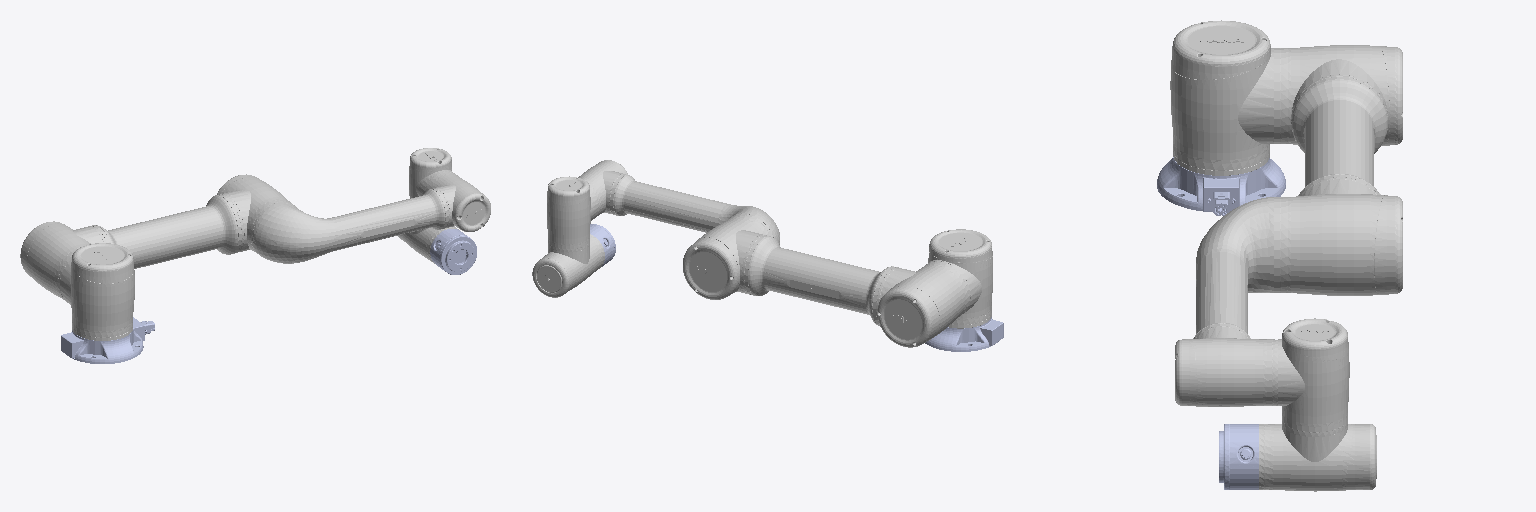
URDF robot description (jaka_s5):
<?xml version="1.0" encoding="utf-8"?>
<!-- This URDF was automatically created by SolidWorks to URDF Exporter! Originally created by [author] ([email redacted]) 
     Commit Version: 1.6.0-4-g7f85cfe  Build Version: 1.6.7995.38578
     For more information, please see http://wiki.ros.org/sw_urdf_exporter -->
<robot
  name="jaka_s5">

    <!-- LINK -->
  <link name="world" />

  <link
    name="Link_00">
    <inertial>
      <origin
        xyz="0.0028167 -0.00019454 0.019544"
        rpy="0 0 0" />
      <mass
        value="0.52663" />
      <inertia
        ixx="0.0048763"
        ixy="-1.8056E-07"
        ixz="2.5196E-05"
        iyy="0.0068003"
        iyz="-1.7678E-09"
        izz="0.010618" />
    </inertial>
    <visual>
      <origin
        xyz="0 0 0"
        rpy="0 0 0" />
      <geometry>
        <mesh
          filename="package://jaka_description/meshes/jaka_s5_meshes/Link_00.STL" />
      </geometry>
      <material
        name="">
        <color
          rgba="0.79216 0.81961 0.93333 1" />
      </material>
    </visual>
    <collision>
      <origin
        xyz="0 0 0"
        rpy="0 0 0" />
      <geometry>
        <mesh
          filename="package://jaka_description/meshes/jaka_s5_meshes/Link_00.STL" />
      </geometry>
    </collision>
  </link>
  
  <link
    name="Link_01">
    <inertial>
      <origin
        xyz="-2.5186E-07 0.0033226 -0.001509"
        rpy="0 0 0" />
      <mass
        value="15.135" />
      <inertia
        ixx="0.044302"
        ixy="1.5349E-07"
        ixz="-6.1966E-07"
        iyy="0.043091"
        iyz="1.4326E-05"
        izz="0.030523" />
    </inertial>
    <visual>
      <origin
        xyz="0 0 0"
        rpy="0 0 0" />
      <geometry>
        <mesh
          filename="package://jaka_description/meshes/jaka_s5_meshes/Link_01.STL" />
      </geometry>
      <material
        name="">
        <color
          rgba="0.84706 0.84706 0.84706 1" />
      </material>
    </visual>
    <collision>
      <origin
        xyz="0 0 0"
        rpy="0 0 0" />
      <geometry>
        <mesh
          filename="package://jaka_description/meshes/jaka_s5_meshes/Link_01.STL" />
      </geometry>
    </collision>
  </link>
  
  <link
    name="Link_02">
    <inertial>
      <origin
        xyz="0.215 6.4325E-09 -0.14315"
        rpy="0 0 0" />
      <mass
        value="45.847" />
      <inertia
        ixx="0.10377"
        ixy="-1.3562E-06"
        ixz="2.544E-07"
        iyy="1.5964"
        iyz="2.1509E-08"
        izz="1.5689" />
    </inertial>
    <visual>
      <origin
        xyz="0 0 0"
        rpy="0 0 0" />
      <geometry>
        <mesh
          filename="package://jaka_description/meshes/jaka_s5_meshes/Link_02.STL" />
      </geometry>
      <material
        name="">
        <color
          rgba="0.84706 0.84706 0.84706 1" />
      </material>
    </visual>
    <collision>
      <origin
        xyz="0 0 0"
        rpy="0 0 0" />
      <geometry>
        <mesh
          filename="package://jaka_description/meshes/jaka_s5_meshes/Link_02.STL" />
      </geometry>
    </collision>
  </link>

  <link
    name="Link_03">
    <inertial>
      <origin
        xyz="0.19077 -1.059E-08 -0.010626"
        rpy="0 0 0" />
      <mass
        value="18.05" />
      <inertia
        ixx="0.022066"
        ixy="-3.4554E-06"
        ixz="-0.022609"
        iyy="0.41632"
        iyz="1.1508E-08"
        izz="0.41071" />
    </inertial>
    <visual>
      <origin
        xyz="0 0 0"
        rpy="0 0 0" />
      <geometry>
        <mesh
          filename="package://jaka_description/meshes/jaka_s5_meshes/Link_03.STL" />
      </geometry>
      <material
        name="">
        <color
          rgba="0.84706 0.84706 0.84706 1" />
      </material>
    </visual>
    <collision>
      <origin
        xyz="0 0 0"
        rpy="0 0 0" />
      <geometry>
        <mesh
          filename="package://jaka_description/meshes/jaka_s5_meshes/Link_03.STL" />
      </geometry>
    </collision>
  </link>
  
  <link
    name="Link_04">
    <inertial>
      <origin
        xyz="-2.1463E-06 -0.0059512 0.0026789"
        rpy="0 0 0" />
      <mass
        value="5.5377" />
      <inertia
        ixx="0.0092564"
        ixy="1.1341E-07"
        ixz="-1.2578E-08"
        iyy="0.0052251"
        iyz="-8.3499E-05"
        izz="0.0089683" />
    </inertial>
    <visual>
      <origin
        xyz="0 0 0"
        rpy="0 0 0" />
      <geometry>
        <mesh
          filename="package://jaka_description/meshes/jaka_s5_meshes/Link_04.STL" />
      </geometry>
      <material
        name="">
        <color
          rgba="0.84706 0.84706 0.84706 1" />
      </material>
    </visual>
    <collision>
      <origin
        xyz="0 0 0"
        rpy="0 0 0" />
      <geometry>
        <mesh
          filename="package://jaka_description/meshes/jaka_s5_meshes/Link_04.STL" />
      </geometry>
    </collision>
  </link>

  <link
    name="Link_05">
    <inertial>
      <origin
        xyz="-2.0304E-06 -0.0028889 -0.0023424"
        rpy="0 0 0" />
      <mass
        value="6.3339" />
      <inertia
        ixx="0.012993"
        ixy="-1.0764E-07"
        ixz="5.8559E-09"
        iyy="0.0058454"
        iyz="4.5426E-05"
        izz="0.0127" />
    </inertial>
    <visual>
      <origin
        xyz="0 0 0"
        rpy="0 0 0" />
      <geometry>
        <mesh
          filename="package://jaka_description/meshes/jaka_s5_meshes/Link_05.STL" />
      </geometry>
      <material
        name="">
        <color
          rgba="0.84706 0.84706 0.84706 1" />
      </material>
    </visual>
    <collision>
      <origin
        xyz="0 0 0"
        rpy="0 0 0" />
      <geometry>
        <mesh
          filename="package://jaka_description/meshes/jaka_s5_meshes/Link_05.STL" />
      </geometry>
    </collision>
  </link>

  <link
    name="Link_06">
    <inertial>
      <origin
        xyz="-0.00024331 0.00030548 -0.026411"
        rpy="0 0 0" />
      <mass
        value="0.23261" />
      <inertia
        ixx="0.00071853"
        ixy="-6.9778E-07"
        ixz="-6.378E-07"
        iyy="0.00072375"
        iyz="8.3072E-07"
        izz="0.0011337" />
    </inertial>
    <visual>
      <origin
        xyz="0 0 0"
        rpy="0 0 0" />
      <geometry>
        <mesh
          filename="package://jaka_description/meshes/jaka_s5_meshes/Link_06.STL" />
      </geometry>
      <material
        name="">
        <color
          rgba="0.79216 0.81961 0.93333 1" />
      </material>
    </visual>
    <collision>
      <origin
        xyz="0 0 0"
        rpy="0 0 0" />
      <geometry>
        <mesh
          filename="package://jaka_description/meshes/jaka_s5_meshes/Link_06.STL" />
      </geometry>
    </collision>
  </link>

  <!-- JOINT -->
  <joint name="fixed" type="fixed">
     <origin xyz="0 0 0.0001" rpy="0 0 0" />
     <parent link="world"/>
     <child link="Link_00"/>
  </joint>

<joint
    name="joint_1"
    type="revolute">
    <origin
      xyz="0 0 0.12015"
      rpy="0 0 0" />
    <parent
      link="Link_00" />
    <child
      link="Link_01" />
    <axis
      xyz="0 0 1" />
    <limit
      lower="-6.28"
      upper="6.28"
      effort="3000"
      velocity="3.14"  />
  </joint>

  <joint
    name="joint_2"
    type="revolute">
    <origin
      xyz="0 0 0"
      rpy="1.5708 0 0" />
    <parent
      link="Link_01" />
    <child
      link="Link_02" />
    <axis
      xyz="0 0 1" />
    <limit
      lower="-1.48"
      upper="4.62"
      effort="5000"
      velocity="3.14"  />
  </joint>

<joint
    name="joint_3"
    type="revolute">
    <origin
      xyz="0.43 0 0"
      rpy="0 0 0" />
    <parent
      link="Link_02" />
    <child
      link="Link_03" />
    <axis
      xyz="0 0 1" />
    <limit
      lower="-3.05"
      upper="3.05"
      effort="5000"
      velocity="3.14"  />
  </joint>

  <joint
    name="joint_4"
    type="revolute">
    <origin
      xyz="0.3685 0 -0.114"
      rpy="0 0 0" />
    <parent
      link="Link_03" />
    <child
      link="Link_04" />
    <axis
      xyz="0 0 1" />
    <limit
      lower="-1.48"
      upper="4.62"
      effort="2000"
      velocity="3.14"  />
  </joint>

    <joint
    name="joint_5"
    type="revolute">
    <origin
      xyz="0 -0.1135 0"
      rpy="1.5708 0 0" />
    <parent
      link="Link_04" />
    <child
      link="Link_05" />
    <axis
      xyz="0 0 1" />
    <limit
      lower="-6.28"
      upper="6.28"
      effort="3000"
      velocity="3.14" />
  </joint>

  <joint
    name="joint_6"
    type="revolute">
    <origin
      xyz="0.00026137 0.1175 0.00025782"
      rpy="-1.5708 0 0" />
    <parent
      link="Link_05" />
    <child
      link="Link_06" />
    <axis
      xyz="0 0 1" />
    <limit
      lower="-6.28"
      upper="6.28"
      effort="1000"
      velocity="3.14"  />
  </joint>

 <transmission name="trans_joint_1">
        <type>transmission_interface/SimpleTransmission</type>
        <joint name="joint_1">
            <hardwareInterface>hardware_interface/PositionJointInterface</hardwareInterface>
        </joint>
        <actuator name="joint_1_motor">
            <hardwareInterface>hardware_interface/PositionJointInterface</hardwareInterface>
            <mechanicalReduction>1</mechanicalReduction>
        </actuator>
    </transmission>
    <transmission name="trans_joint_2">
        <type>transmission_interface/SimpleTransmission</type>
        <joint name="joint_2">
            <hardwareInterface>hardware_interface/PositionJointInterface</hardwareInterface>
        </joint>
        <actuator name="joint_2_motor">
            <hardwareInterface>hardware_interface/PositionJointInterface</hardwareInterface>
            <mechanicalReduction>1</mechanicalReduction>
        </actuator>
    </transmission>
    <transmission name="trans_joint_3">
        <type>transmission_interface/SimpleTransmission</type>
        <joint name="joint_3">     
            <hardwareInterface>hardware_interface/PositionJointInterface</hardwareInterface>
        </joint>
        <actuator name="joint_3_motor">
            <hardwareInterface>hardware_interface/PositionJointInterface</hardwareInterface>
            <mechanicalReduction>1</mechanicalReduction>
        </actuator>
    </transmission>
    <transmission name="trans_joint_4">
        <type>transmission_interface/SimpleTransmission</type>
        <joint name="joint_4">
            <hardwareInterface>hardware_interface/PositionJointInterface</hardwareInterface>
        </joint>
        <actuator name="joint_4_motor">
            <hardwareInterface>hardware_interface/PositionJointInterface</hardwareInterface>
            <mechanicalReduction>1</mechanicalReduction>
        </actuator>
    </transmission>
    <transmission name="trans_joint_5">
        <type>transmission_interface/SimpleTransmission</type>
        <joint name="joint_5">
            <hardwareInterface>hardware_interface/PositionJointInterface</hardwareInterface>
        </joint>
        <actuator name="joint_5_motor">
            <hardwareInterface>hardware_interface/PositionJointInterface</hardwareInterface>
            <mechanicalReduction>1</mechanicalReduction>
        </actuator>
    </transmission>
    <transmission name="trans_joint_6">
        <type>transmission_interface/SimpleTransmission</type>
        <joint name="joint_6">
            <hardwareInterface>hardware_interface/PositionJointInterface</hardwareInterface>
        </joint>
        <actuator name="joint_6_motor">
            <hardwareInterface>hardware_interface/PositionJointInterface</hardwareInterface>
            <mechanicalReduction>1</mechanicalReduction>
        </actuator>
    </transmission>
    <gazebo>
        <plugin name="gazebo_ros_control" filename="libgazebo_ros_control.so">
            <robotNamespace>/</robotNamespace>
        </plugin>
    </gazebo>
</robot>

--- Render facts (derived) ---
The picture shows the robot from 3 angles, left to right: view 1: azimuth 30°, elevation 25°; view 2: azimuth 150°, elevation 25°; view 3: azimuth 270°, elevation 25°; orthographic projection.
Model jaka_s5 with 8 links and 7 joints (6 revolute, 1 fixed), rooted at world, posed every joint at zero.
Visible links, largest first — view 1: Link_02, Link_03, Link_01, Link_00, Link_06, Link_04, Link_05; view 2: Link_02, Link_03, Link_01, Link_04, Link_05, Link_00; view 3: Link_02, Link_03, Link_01, Link_04, Link_05, Link_00, Link_06.
Link boxes in pixels (box(x1,y1,x2,y2)): Link_02: box(20, 174, 294, 299); Link_03: box(252, 171, 490, 263); Link_01: box(60, 243, 134, 340); Link_00: box(61, 317, 154, 363); Link_06: box(430, 229, 476, 274); Link_04: box(409, 148, 451, 198); Link_05: box(398, 226, 458, 263); Link_02: box(683, 214, 970, 347); Link_03: box(578, 160, 779, 244); Link_01: box(926, 229, 992, 328); Link_04: box(547, 176, 598, 251); Link_05: box(532, 234, 604, 297); Link_00: box(925, 317, 1003, 351); Link_02: box(1274, 45, 1402, 295); Link_03: box(1175, 197, 1277, 406); Link_01: box(1170, 20, 1273, 175); Link_04: box(1278, 318, 1349, 436); Link_05: box(1259, 424, 1376, 491); Link_00: box(1157, 157, 1285, 215); Link_06: box(1219, 424, 1258, 489).
Size in the robot's own frame: 0.9227 by 0.3009 by 0.2332 metres.
Meshes: 7 distinct files referenced, 7 mesh visuals loaded (7 binary STL).
